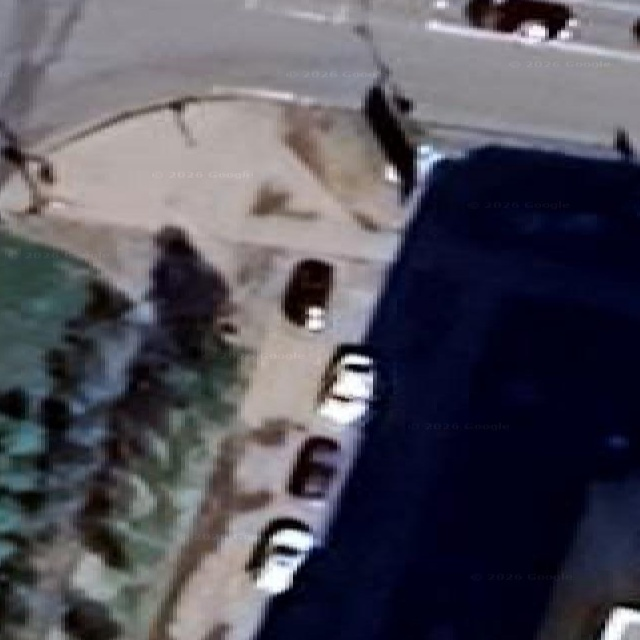car: (247, 519, 313, 594), (465, 0, 577, 41), (318, 349, 375, 425), (283, 259, 333, 332), (288, 437, 340, 501), (598, 607, 639, 639), (415, 143, 444, 184), (631, 18, 640, 44)
